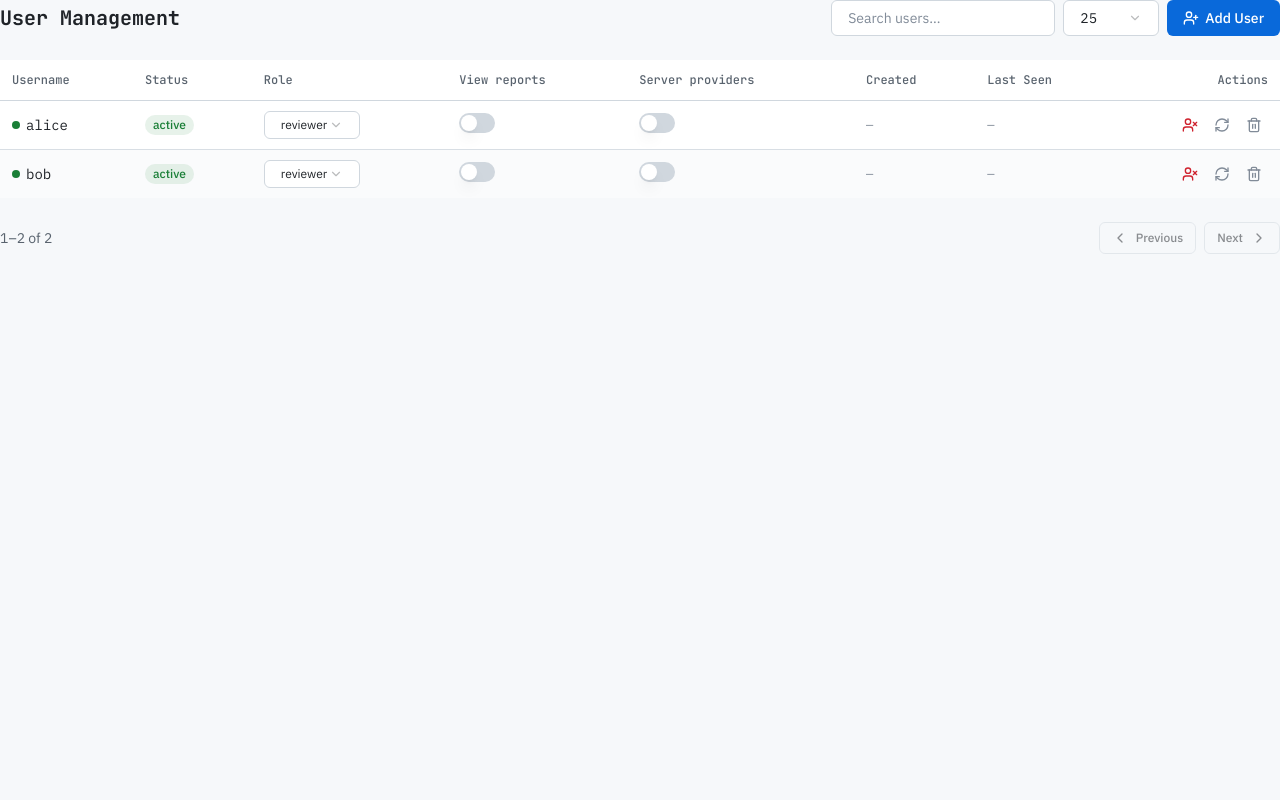
Scenario: UsersPage account state › disables only after confirmation, then refetches instead of patching the row
The width and height of the screenshot is (1280, 800).
What coordinates should you click on to do the following:
click the button named "Disable alice"
I would click on:
 (1190, 124)
Its box is [1176,110,1204,138].
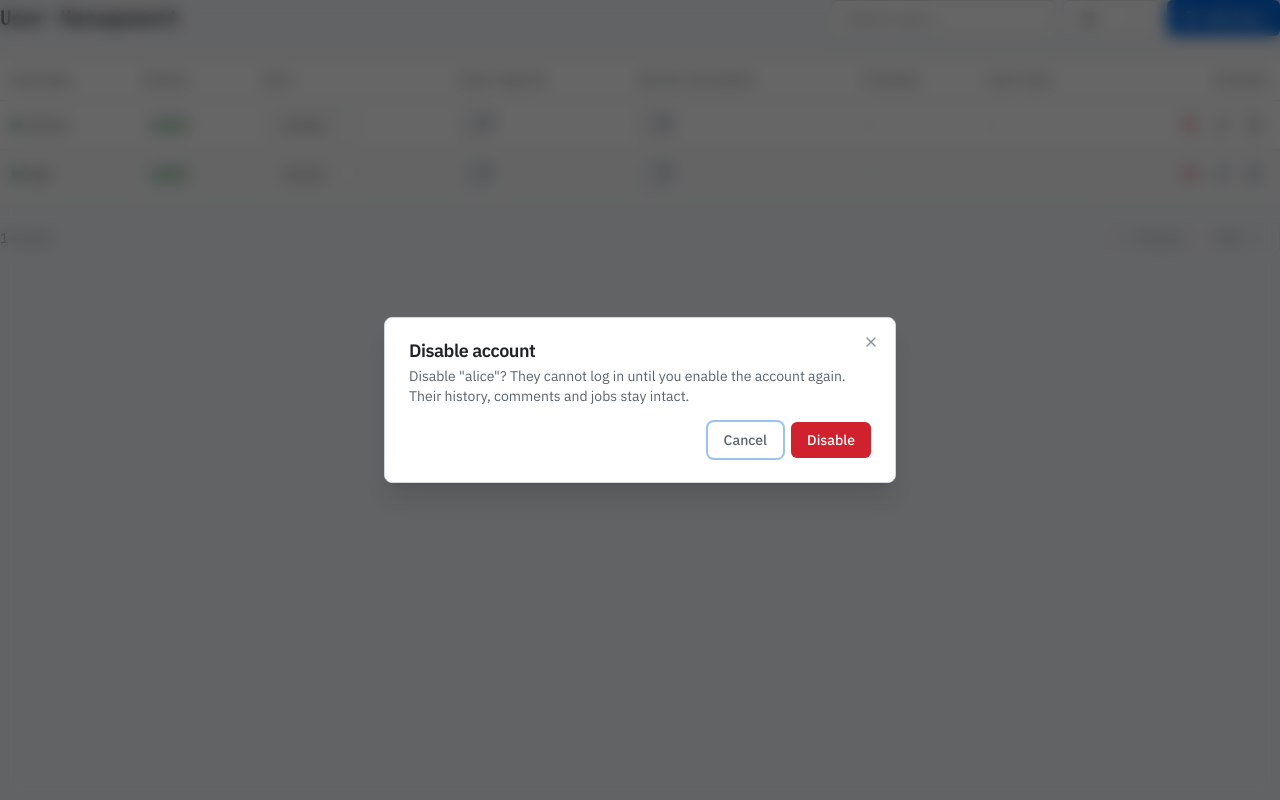
Expected: the text "cannot log in until you enable" is shown, [409,367,846,405]
What coordinates should you click on to do the following:
click the button "Disable"
I would click on:
 (831, 440)
Its box is [791,422,871,458].
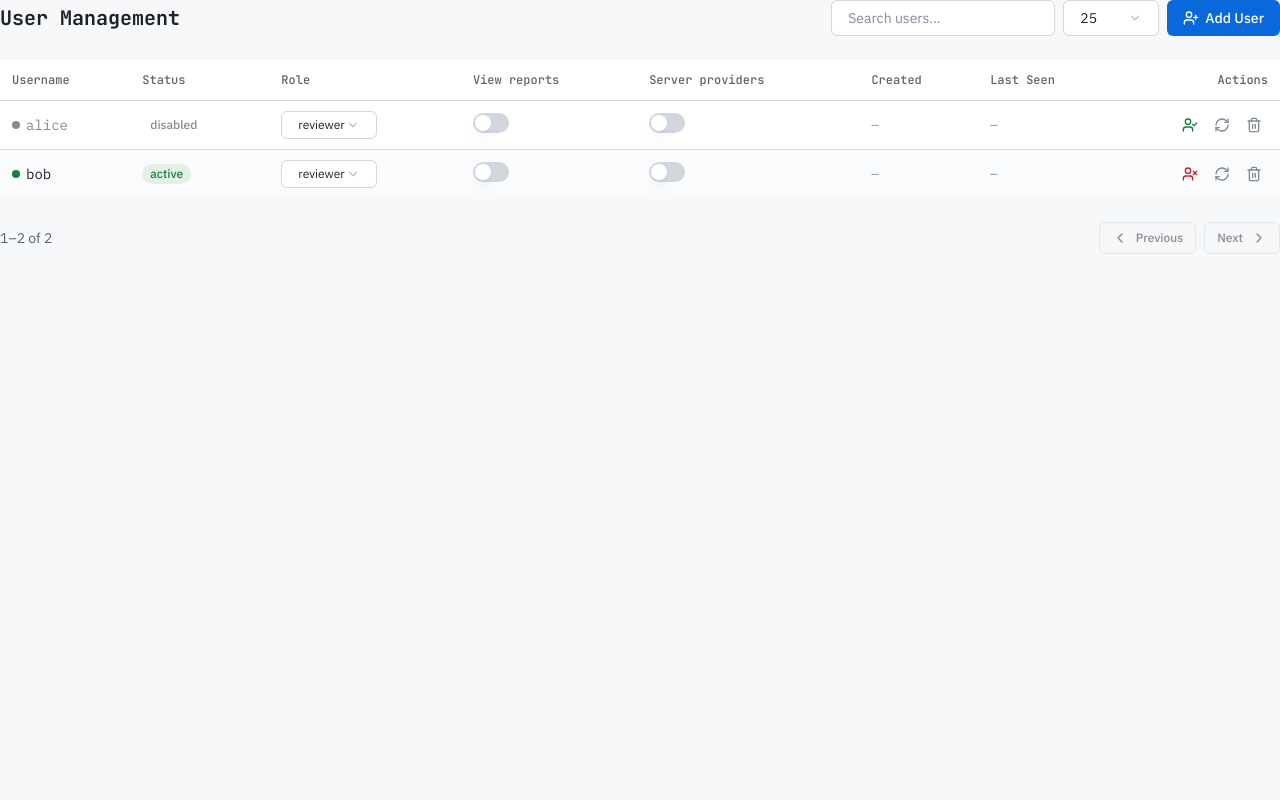
Expected: the button named "Enable alice" is shown, [1176,110,1204,138]
Expected: the text "disabled" is shown, [142,115,205,135]
